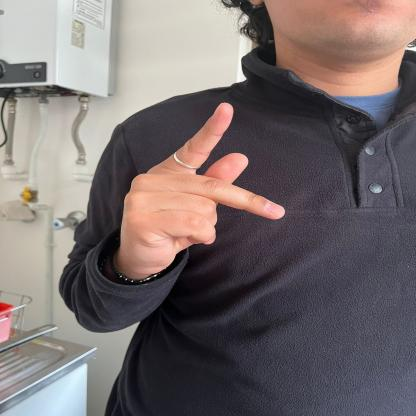K: (116, 99, 290, 279)
